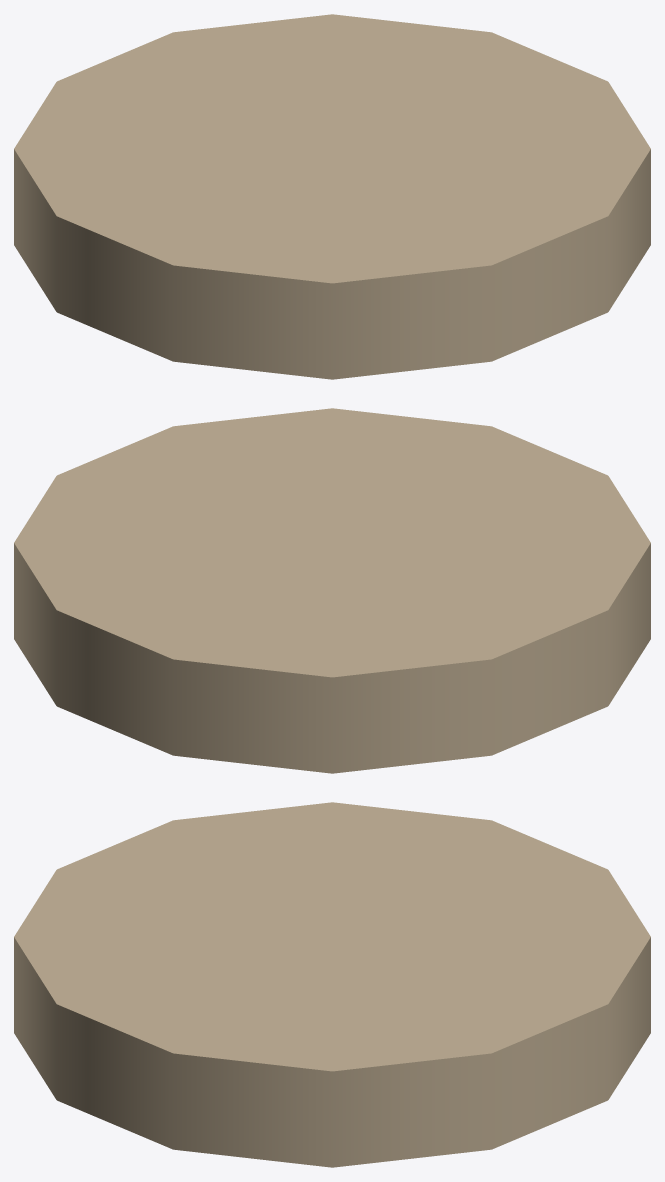
The model's file is pipe cap.FBX.
3 renders of one model, top to bottom at view 1: azimuth 30°, elevation 25°; view 2: azimuth 150°, elevation 25°; view 3: azimuth 270°, elevation 25°, orthographic.
Parts seen in each view (by area): view 1: pipe partit; view 2: pipe partit; view 3: pipe partit.
Part boxes in pixels (left/top/right/bottom): pipe partit: left=14, top=14, right=650, bottom=379; pipe partit: left=14, top=408, right=650, bottom=773; pipe partit: left=14, top=802, right=650, bottom=1167.
Size of the model in its own units: 0.6535 by 0.1089 by 0.6535.
